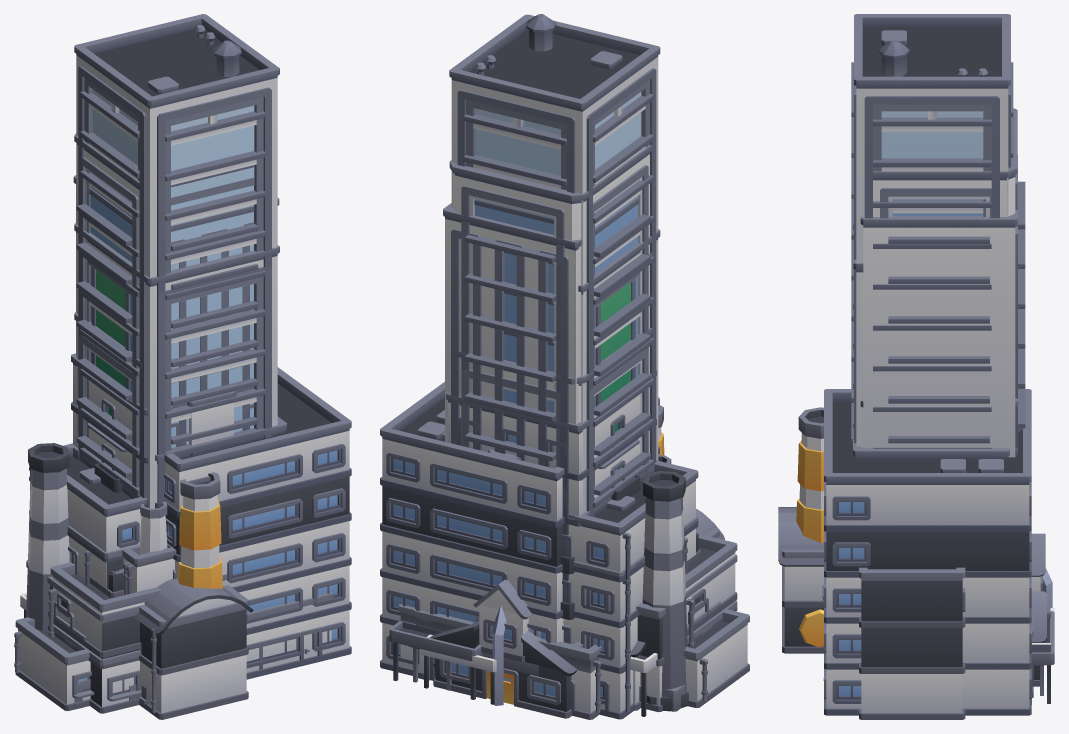
Rendered from city-districts.glb.
3 renders of one model, left to right at view 1: azimuth 30°, elevation 25°; view 2: azimuth 150°, elevation 25°; view 3: azimuth 270°, elevation 25°, orthographic. The views are drawn at different scales.
Parts seen in each view (by area): view 1: building-skyscraper-d, building-n (×2), building-skyscraper-c, building-skyscraper-b, building-f, building-o, building-l (×2), building-j, building-skyscraper-e, building-skyscraper-a, building-q, building-m (+4 smaller); view 2: building-skyscraper-d, building-n, building-skyscraper-b, building-skyscraper-e, building-m (×2), building-j, building-f, building-q, building-skyscraper-a, building-skyscraper-c, building-l, building-c (+2 smaller); view 3: building-n (×2), building-skyscraper-d, building-skyscraper-e, building-r, building-skyscraper-b, building-l (×2), building-skyscraper-c, building-c, building-m, building-o, building-skyscraper-a.
Part boxes in pixels (left/top/right/bottom): building-skyscraper-d: left=74, top=14, right=279, bottom=537; building-n (×2): left=20, top=367, right=351, bottom=700; building-skyscraper-c: left=74, top=223, right=279, bottom=508; building-skyscraper-b: left=74, top=133, right=258, bottom=487; building-f: left=26, top=443, right=226, bottom=709; building-o: left=138, top=585, right=248, bottom=719; building-l (×2): left=14, top=416, right=287, bottom=710; building-j: left=29, top=443, right=146, bottom=589; building-skyscraper-e: left=73, top=175, right=279, bottom=452; building-skyscraper-a: left=74, top=311, right=257, bottom=498; building-q: left=26, top=560, right=311, bottom=693; building-m: left=71, top=353, right=254, bottom=507; building-skyscraper-d: left=449, top=14, right=660, bottom=510; building-n: left=380, top=382, right=659, bottom=716; building-skyscraper-b: left=449, top=145, right=651, bottom=512; building-skyscraper-e: left=443, top=197, right=639, bottom=602; building-m (×2): left=429, top=370, right=656, bottom=718; building-j: left=560, top=460, right=698, bottom=719; building-f: left=642, top=471, right=737, bottom=711; building-q: left=408, top=554, right=737, bottom=719; building-skyscraper-a: left=458, top=327, right=653, bottom=516; building-skyscraper-c: left=504, top=229, right=660, bottom=513; building-l: left=658, top=405, right=749, bottom=707; building-c: left=389, top=604, right=583, bottom=699; building-n (×2): left=778, top=389, right=1054, bottom=715; building-skyscraper-d: left=851, top=14, right=1013, bottom=448; building-skyscraper-e: left=860, top=154, right=1017, bottom=457; building-r: left=859, top=567, right=965, bottom=719; building-skyscraper-b: left=853, top=108, right=1025, bottom=443; building-l (×2): left=796, top=407, right=1022, bottom=542; building-skyscraper-c: left=851, top=259, right=991, bottom=448; building-c: left=799, top=609, right=1054, bottom=704; building-m: left=1031, top=533, right=1046, bottom=686; building-o: left=782, top=549, right=823, bottom=653; building-skyscraper-a: left=853, top=348, right=1025, bottom=438.
Size of the model in its own units: 2.71 by 5.47 by 2.18.
3 materials, 3 textured.
